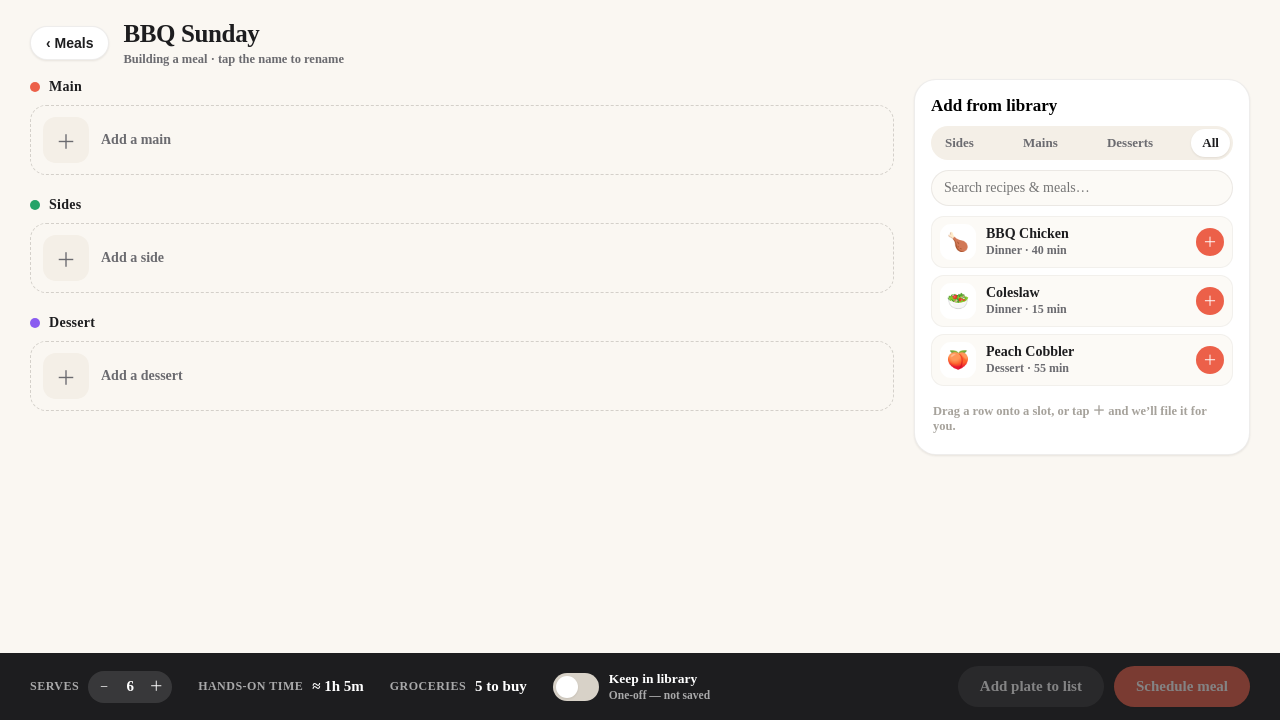
Test case: MealBuilder — add from library › files a dessert under Dessert when the Desserts segment is active
The image size is (1280, 720).
Expected: the text "Peach Cobbler" is shown, [986,344,1074,359]
Click the button "Desserts" at (1130, 143), box [1096,129,1164,157]
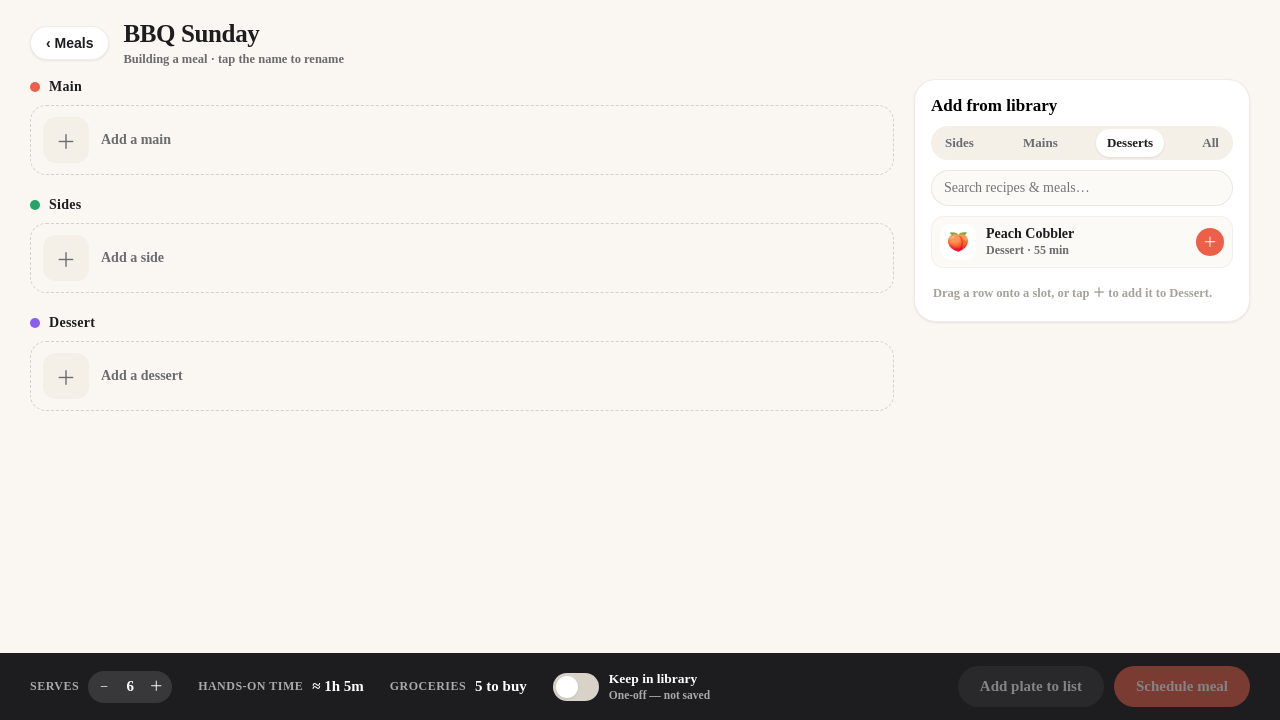
Click the button named "Add Peach Cobbler" at (1210, 242), box [1196,228,1224,256]
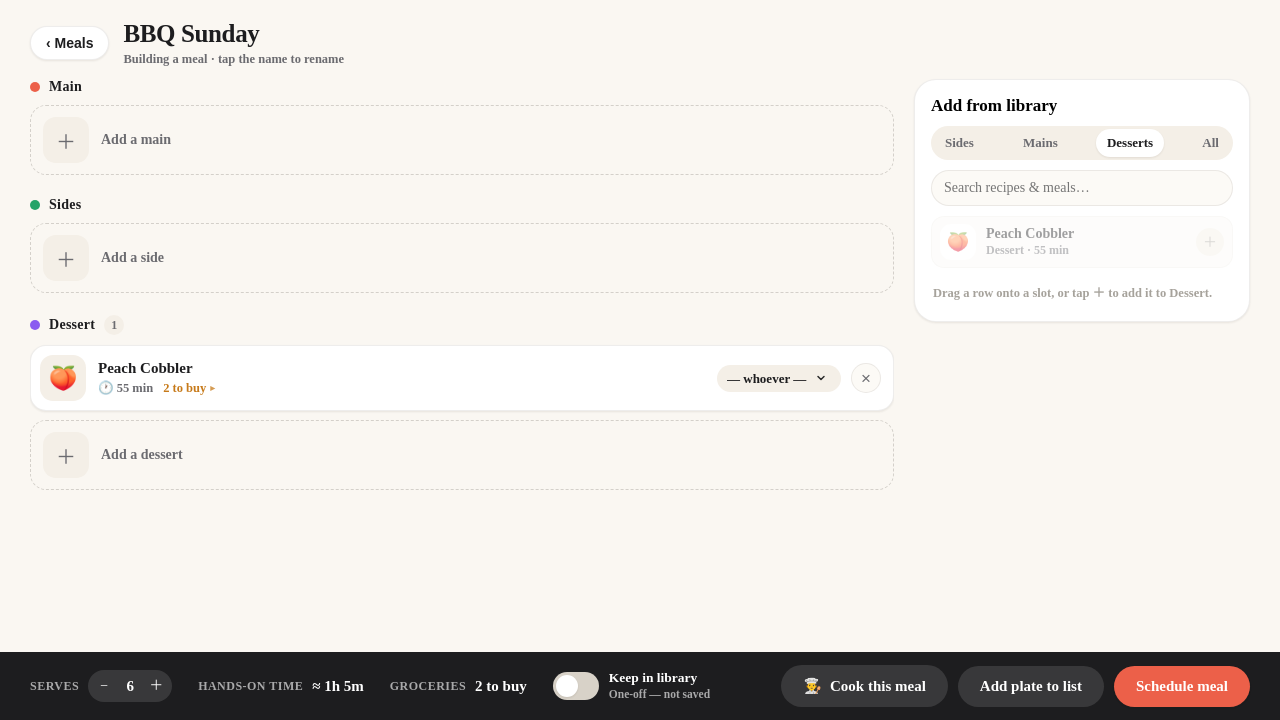
Result: the 2nd text "Peach Cobbler" is shown at [98,360,193,376]
